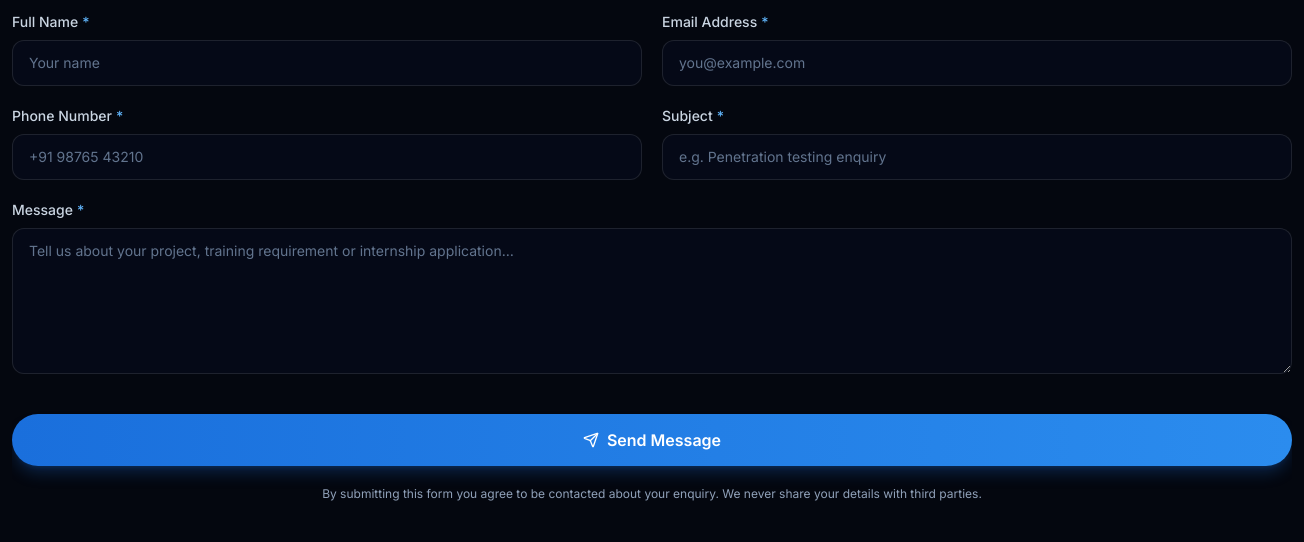
Test: ContactForm › rejects a malformed email address
This screenshot has width=1304, height=542.
Type "not-an-email" into the field labelled "Email Address*".
click(977, 63); type("not-an-email")  # box [662,40,1292,86]
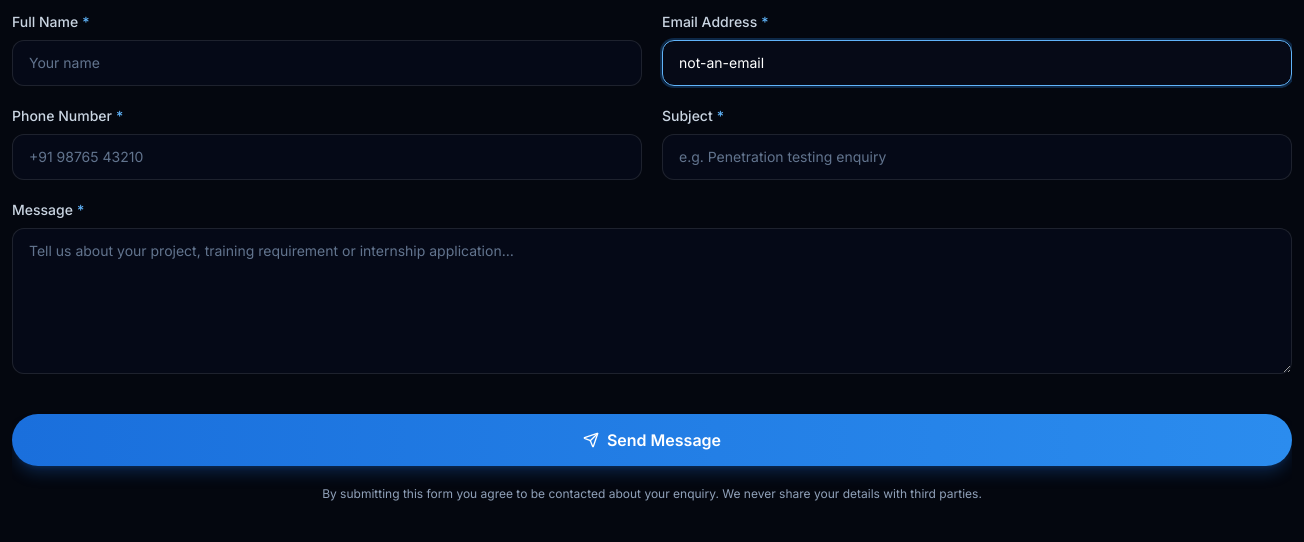
Press Tab
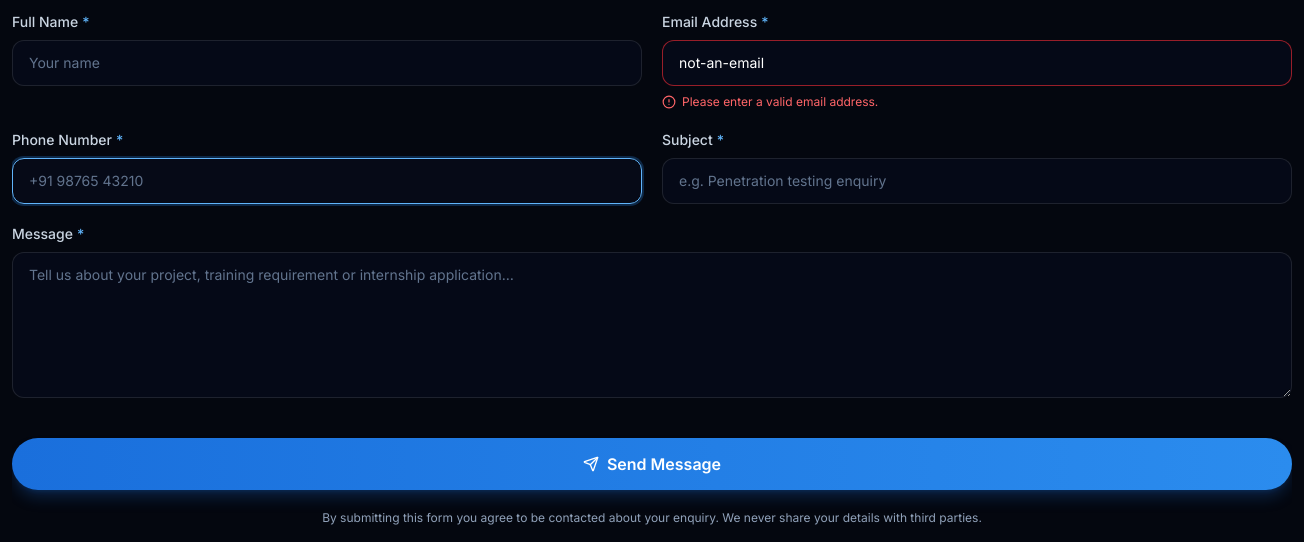
Result: the text "Please enter a valid email address." is shown at [662,94,878,109]
